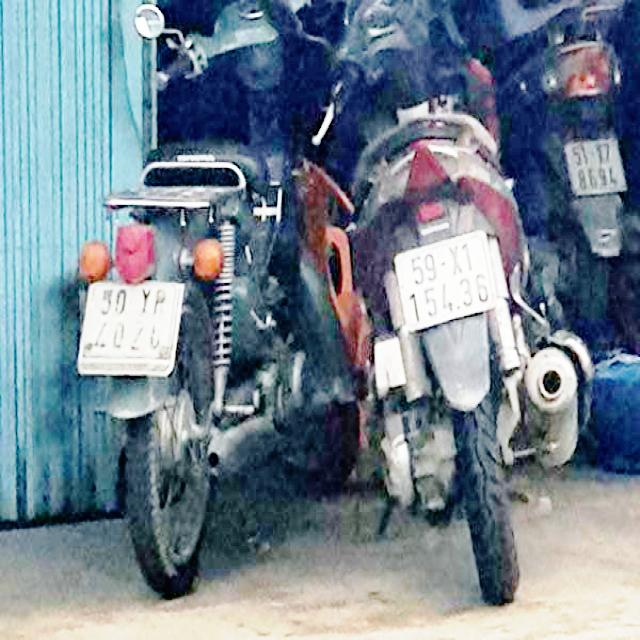license_plate: (396, 235, 499, 337)
